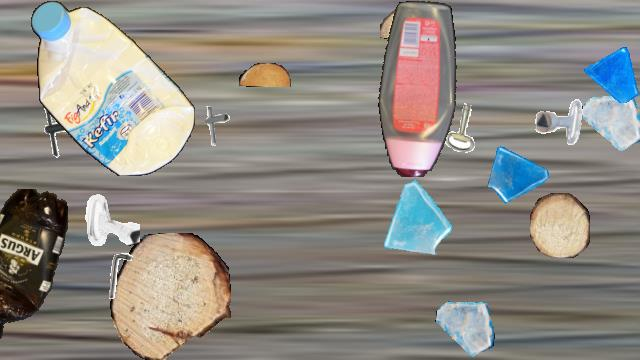glass: (373, 179, 453, 259), (485, 140, 551, 206), (435, 299, 495, 359), (582, 93, 640, 153), (584, 46, 640, 102)
metal: (33, 99, 93, 159), (82, 191, 140, 249), (437, 100, 493, 156), (95, 249, 149, 303), (534, 97, 586, 149), (193, 103, 237, 147)
plastic: (31, 1, 195, 175), (377, 1, 461, 177), (0, 189, 75, 359)
wood: (110, 233, 230, 359), (530, 193, 590, 257), (380, 9, 454, 41), (239, 63, 291, 87)
